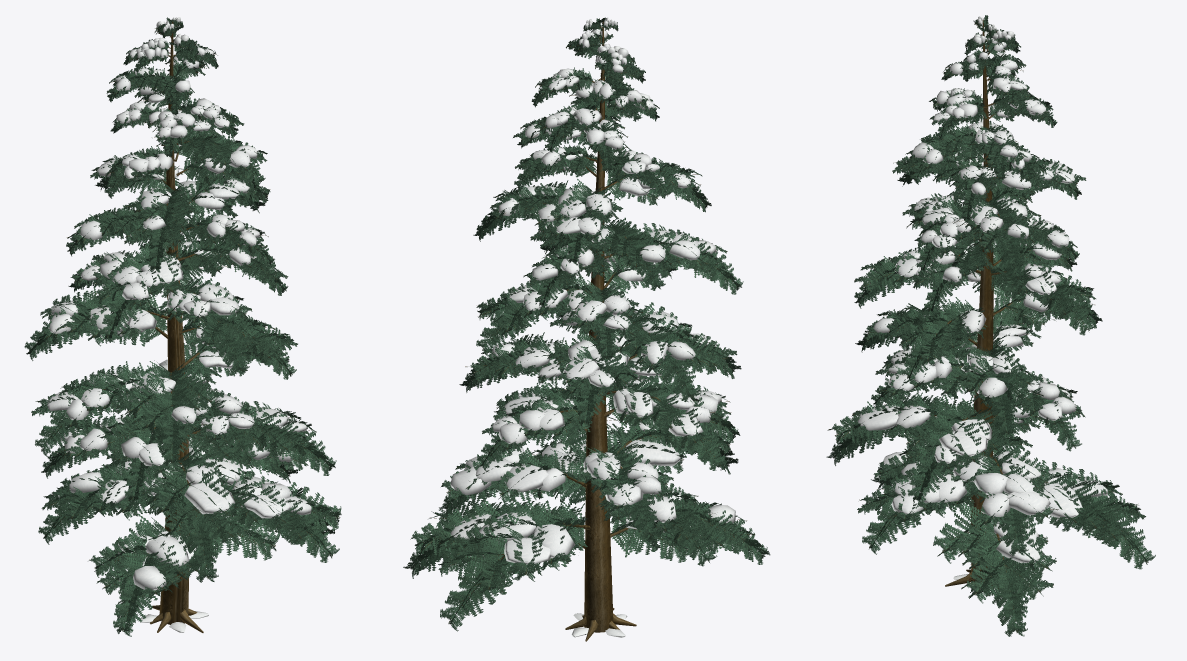
3 views of the same model, side by side, from view 1: azimuth 30°, elevation 25°; view 2: azimuth 150°, elevation 25°; view 3: azimuth 270°, elevation 25° (orthographic). The views are drawn at different scales.
Visible parts, largest first — view 1: Mesh_NeedleSprays, Mesh_SupportedSnowLoads, Mesh_BarkStructure; view 2: Mesh_NeedleSprays, Mesh_SupportedSnowLoads, Mesh_BarkStructure; view 3: Mesh_NeedleSprays, Mesh_SupportedSnowLoads, Mesh_BarkStructure.
Part boxes in pixels (x1,y1,x2,y2): Mesh_NeedleSprays: [24, 17, 341, 636]; Mesh_SupportedSnowLoads: [47, 17, 311, 632]; Mesh_BarkStructure: [39, 21, 340, 632]; Mesh_NeedleSprays: [403, 17, 770, 631]; Mesh_SupportedSnowLoads: [450, 17, 735, 637]; Mesh_BarkStructure: [411, 18, 754, 641]; Mesh_NeedleSprays: [826, 15, 1155, 636]; Mesh_SupportedSnowLoads: [857, 16, 1107, 595]; Mesh_BarkStructure: [829, 20, 1135, 620].
Bounding box in the file's own units: 6.05 × 10.75 × 6.18.
Materials: 3 (3 with a texture image).
